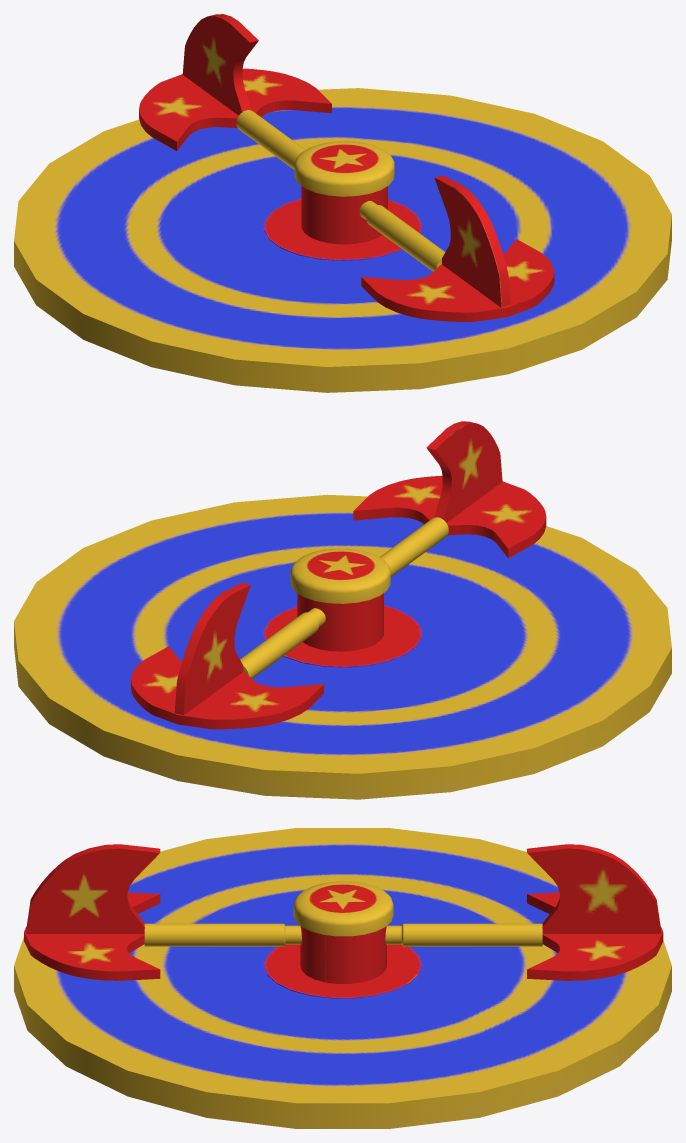
The model's file is RotationGround.fbx.
The picture shows the model from 3 angles, top to bottom: view 1: azimuth 30°, elevation 25°; view 2: azimuth 150°, elevation 25°; view 3: azimuth 270°, elevation 25°; orthographic projection.
Visible parts, largest first — view 1: Obstacle1, Cylinder_029; view 2: Obstacle1, Cylinder_029; view 3: Obstacle1, Cylinder_029.
Boxes of the visible parts, <box> form: Obstacle1: <box>14,88,671,392</box>; Cylinder_029: <box>139,14,554,321</box>; Obstacle1: <box>14,494,671,799</box>; Cylinder_029: <box>131,421,546,729</box>; Obstacle1: <box>14,828,671,1128</box>; Cylinder_029: <box>24,844,663,983</box>.
Size of the model in its own units: 830 by 207 by 839.
